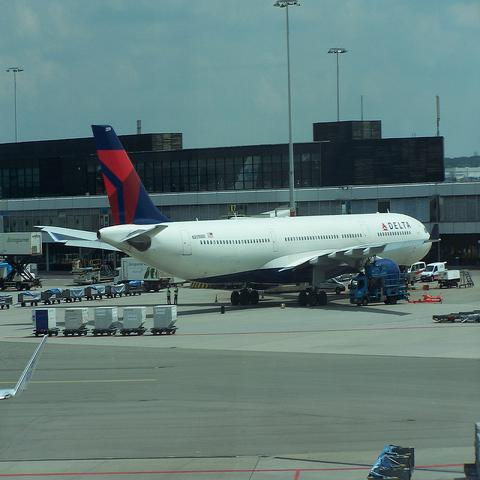car: (306, 277, 347, 295), (407, 262, 427, 286), (335, 274, 353, 282)
truck: (349, 259, 444, 307), (113, 257, 172, 292), (420, 261, 446, 281)
